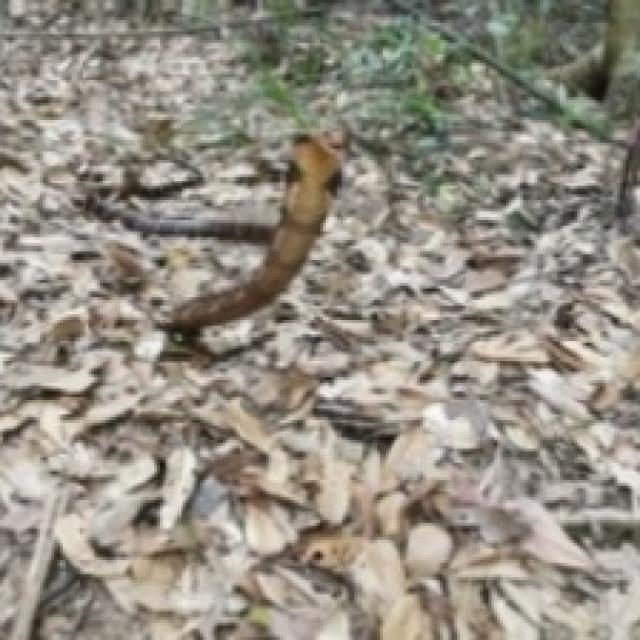king cobra: (163, 134, 337, 331)
